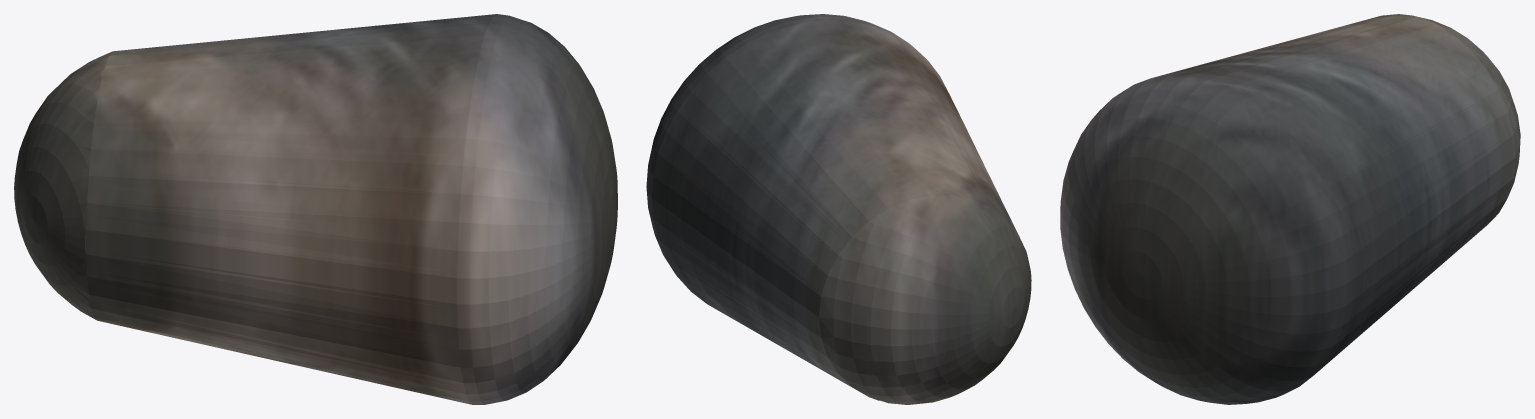
File: upper_leg_texture.dae
3 renders of one model, left to right at view 1: azimuth 30°, elevation 25°; view 2: azimuth 150°, elevation 25°; view 3: azimuth 270°, elevation 25°, orthographic. The views are drawn at different scales.
Visible parts, largest first — view 1: SketchUp; view 2: SketchUp; view 3: SketchUp.
Boxes of the visible parts, x1=… form: SketchUp: x1=14, y1=14, x2=617, y2=404; SketchUp: x1=646, y1=14, x2=1031, y2=404; SketchUp: x1=1060, y1=14, x2=1520, y2=404.
Bounding box in the file's own units: 1.7 × 1.58 × 1.18.
1 material, 1 textured.
